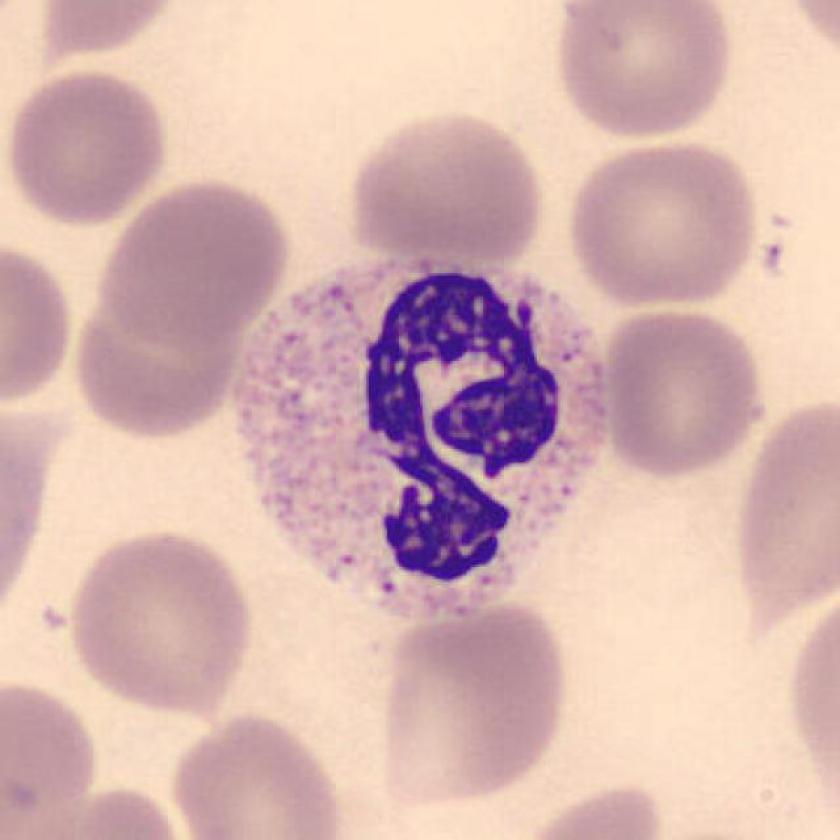neutrophil: (232, 261, 606, 622)
